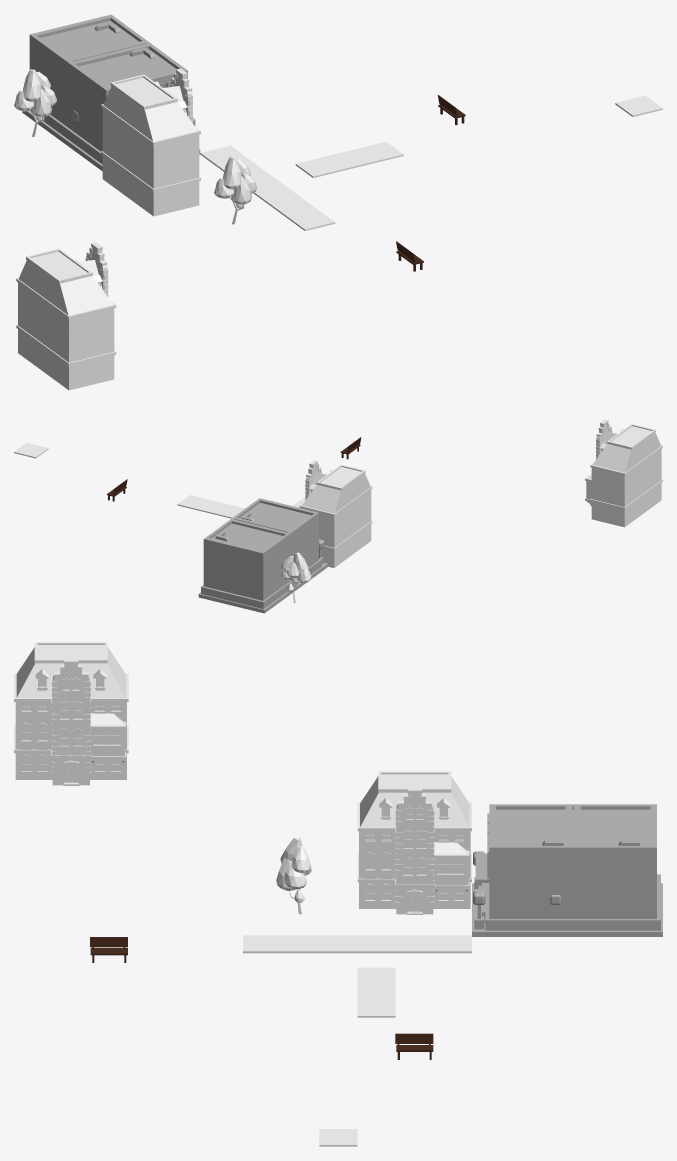
The model's file is Pre-Alpha Final.fbx.
3 views of the same model, one above another, from view 1: azimuth 30°, elevation 25°; view 2: azimuth 150°, elevation 25°; view 3: azimuth 270°, elevation 25° (orthographic). The views are drawn at different scales.
Parts seen in each view (by area): view 1: Main-2-1 (×2), Store (×2), Height Road straight(Clone) (×7), Birchtree(Clone) (×2); view 2: Main-2-1 (×2), Store (×2), Height Road straight(Clone) (×3), Birchtree(Clone); view 3: Main-2-1 (×2), Store (×2), Height Road straight(Clone) (×6), WallExtension-2-1 (×2), bench_2_v_2(Clone) (×2), Birchtree(Clone).
Part boxes in pixels (box(x1,y1,x2,y2)): Main-2-1 (×2): box(16, 68, 200, 390); Store (×2): box(22, 14, 200, 171); Height Road straight(Clone) (×7): box(253, 95, 662, 230); Birchtree(Clone) (×2): box(14, 69, 256, 224); Main-2-1 (×2): box(299, 419, 662, 567); Store (×2): box(198, 498, 327, 613); Height Road straight(Clone) (×3): box(14, 443, 233, 515); Birchtree(Clone): box(281, 552, 311, 603); Main-2-1 (×2): box(14, 642, 471, 914); Store (×2): box(472, 804, 662, 936); Height Road straight(Clone) (×6): box(243, 935, 471, 953); WallExtension-2-1 (×2): box(90, 713, 469, 891); bench_2_v_2(Clone) (×2): box(90, 937, 433, 1059); Birchtree(Clone): box(276, 837, 311, 914).
Size of what is drawn, in the model's own units: 24.28 by 3.61 by 17.
